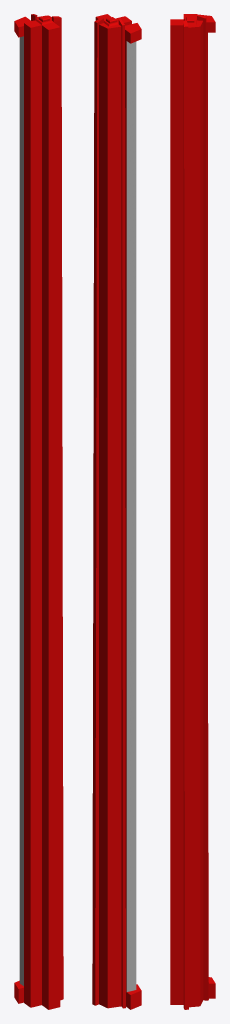
File: Beam_Tall.fbx
3 views of the same model, side by side, from view 1: azimuth 30°, elevation 25°; view 2: azimuth 210°, elevation 25°; view 3: azimuth 270°, elevation 25° (orthographic).
Parts seen in each view (by area): view 1: Elevator_Beam_Tall, pCube1; view 2: Elevator_Beam_Tall, pCube1; view 3: Elevator_Beam_Tall, pCube1.
Part boxes in pixels (left/top/right/bottom): Elevator_Beam_Tall: left=24, top=14, right=63, bottom=1009; pCube1: left=14, top=16, right=31, bottom=1003; Elevator_Beam_Tall: left=92, top=14, right=131, bottom=1008; pCube1: left=125, top=23, right=141, bottom=1009; Elevator_Beam_Tall: left=170, top=14, right=208, bottom=1009; pCube1: left=197, top=14, right=215, bottom=998.
Size of the model in its own units: 1.69 by 1.71 by 40.87.
